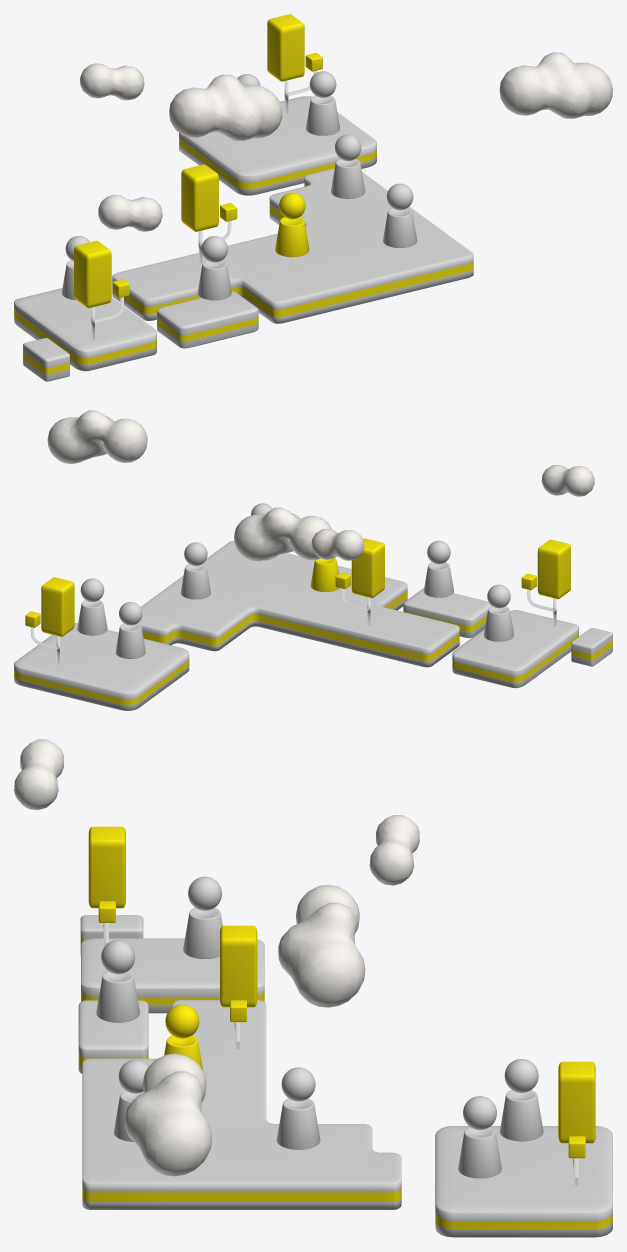
Rendered from japan2.gltf.
3 views of the same model, one above another, from view 1: azimuth 30°, elevation 25°; view 2: azimuth 150°, elevation 25°; view 3: azimuth 270°, elevation 25° (orthographic). The views are drawn at different scales.
Visible parts, largest first — view 1: 0land, 9cloud, 8cloud, 6person, 1person, 5person, 2person, 3person, 7person; view 2: 0land, 9cloud, 8cloud, 5person, 6person, 7person, 3person, 4person, 1person; view 3: 0land, 8cloud, 9cloud, 3person, 4person, 5person, 6person, 7person, 1person, 2person.
Boxes of the visible parts, x1,y1,x2,y2 form: 0land: (14,14,473,381); 9cloud: (98,52,612,231); 8cloud: (80,63,282,140); 6person: (197,236,231,300); 1person: (275,192,309,257); 5person: (306,71,339,135); 2person: (383,183,417,247); 3person: (331,134,365,198); 7person: (61,236,89,300); 0land: (14,538,612,710); 9cloud: (47,410,594,496); 8cloud: (234,507,364,561); 5person: (77,578,107,635); 6person: (423,540,453,597); 7person: (484,584,513,641); 3person: (180,542,210,599); 4person: (115,602,145,658); 1person: (310,558,339,591); 0land: (78,826,612,1237); 8cloud: (278,815,419,1007); 9cloud: (14,739,211,1176); 3person: (276,1067,320,1149); 4person: (499,1059,543,1141); 5person: (458,1096,501,1178); 6person: (96,940,139,1022); 7person: (183,876,222,958); 1person: (164,1004,202,1070); 2person: (113,1059,148,1141).
Bounding box in the file's own units: 9.61 × 2.83 × 6.51.
